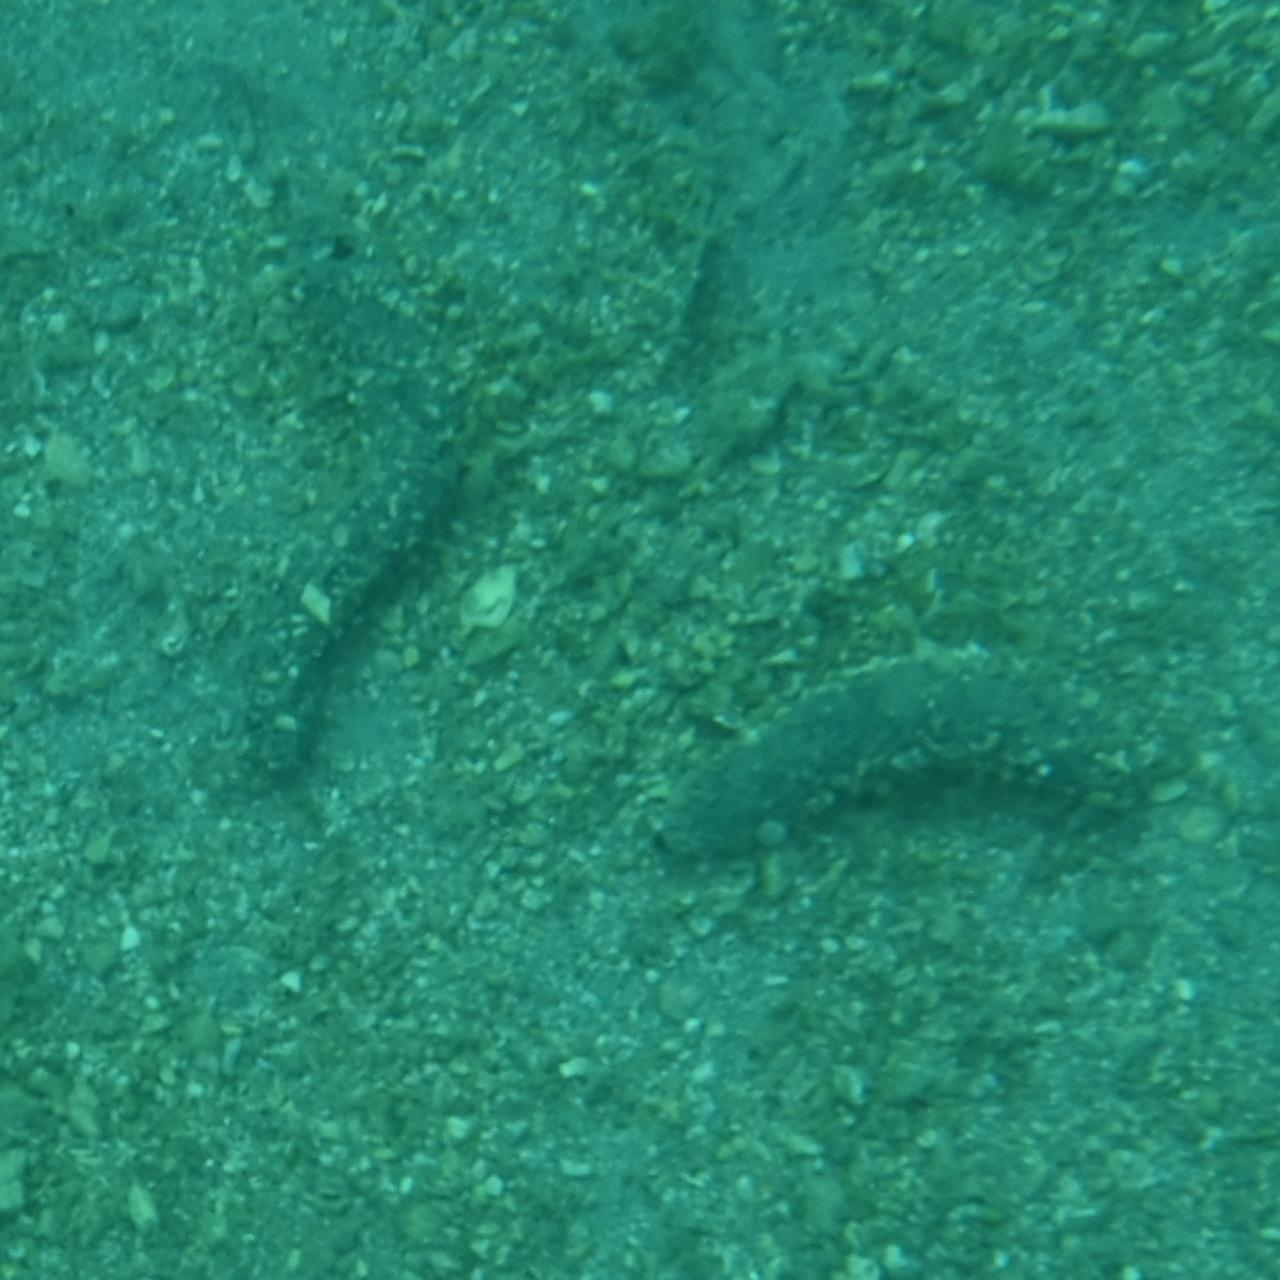Holothuria tubulosa: (230, 238, 484, 806), (672, 631, 1177, 885)
